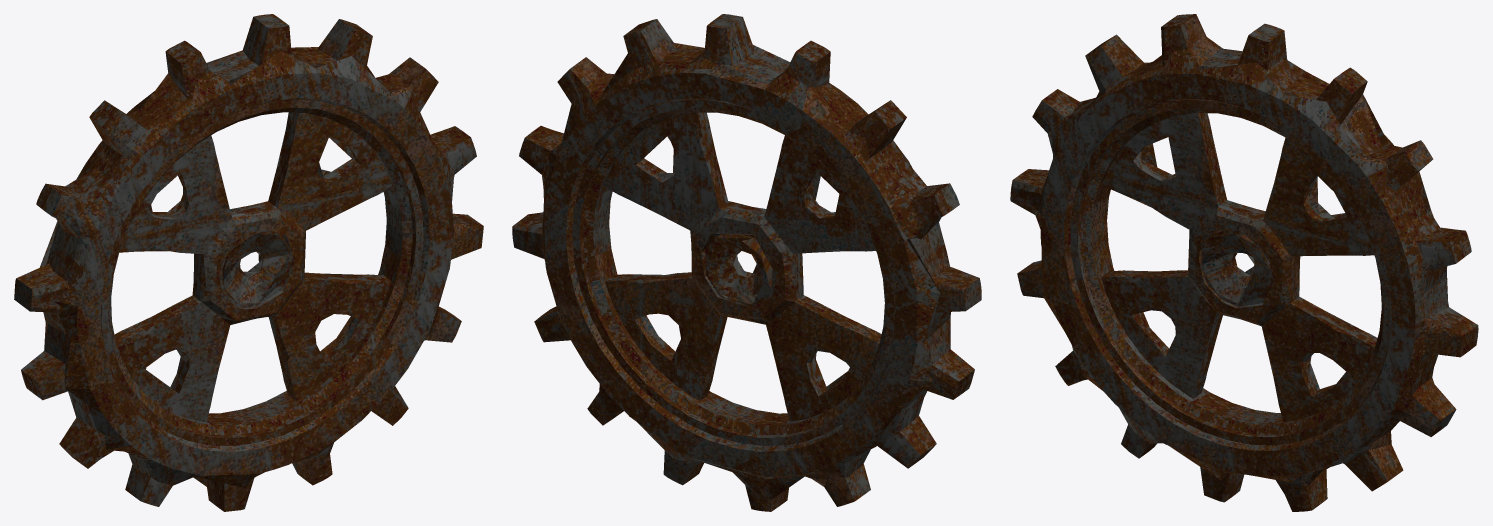
Rendered from gear.fbx.
3 renders of one model, left to right at view 1: azimuth 30°, elevation 25°; view 2: azimuth 150°, elevation 25°; view 3: azimuth 330°, elevation 25°, orthographic.
Visible parts, largest first — view 1: Cylinder.018_Cylinder.033 Remeshed; view 2: Cylinder.018_Cylinder.033 Remeshed; view 3: Cylinder.018_Cylinder.033 Remeshed.
Boxes of the visible parts, <box> form: Cylinder.018_Cylinder.033 Remeshed: <box>14,14,483,511</box>; Cylinder.018_Cylinder.033 Remeshed: <box>512,14,981,511</box>; Cylinder.018_Cylinder.033 Remeshed: <box>1010,14,1478,511</box>.
Size of the model in its own units: 2.92 by 2.92 by 0.3673.
